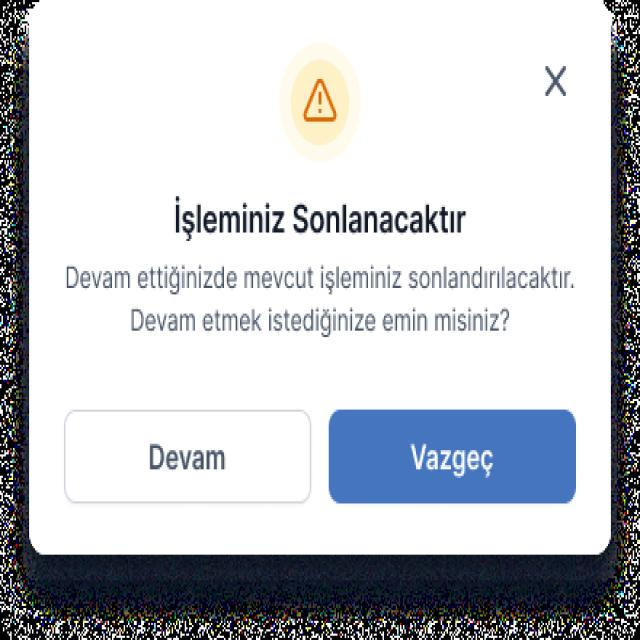QLabel: (68, 262, 575, 295), (126, 304, 506, 339), (168, 198, 473, 238), (406, 441, 496, 479), (146, 442, 227, 472)
VBtn: (324, 410, 578, 507), (65, 408, 312, 506)
VContainer: (0, 0, 640, 640)
VDialog: (28, 24, 611, 557)
VIcon: (279, 44, 361, 164), (543, 61, 569, 100)
